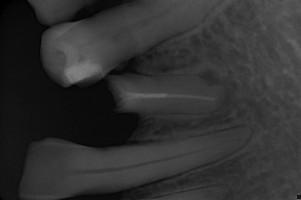Furcation Involvement: (195, 70, 240, 119)
